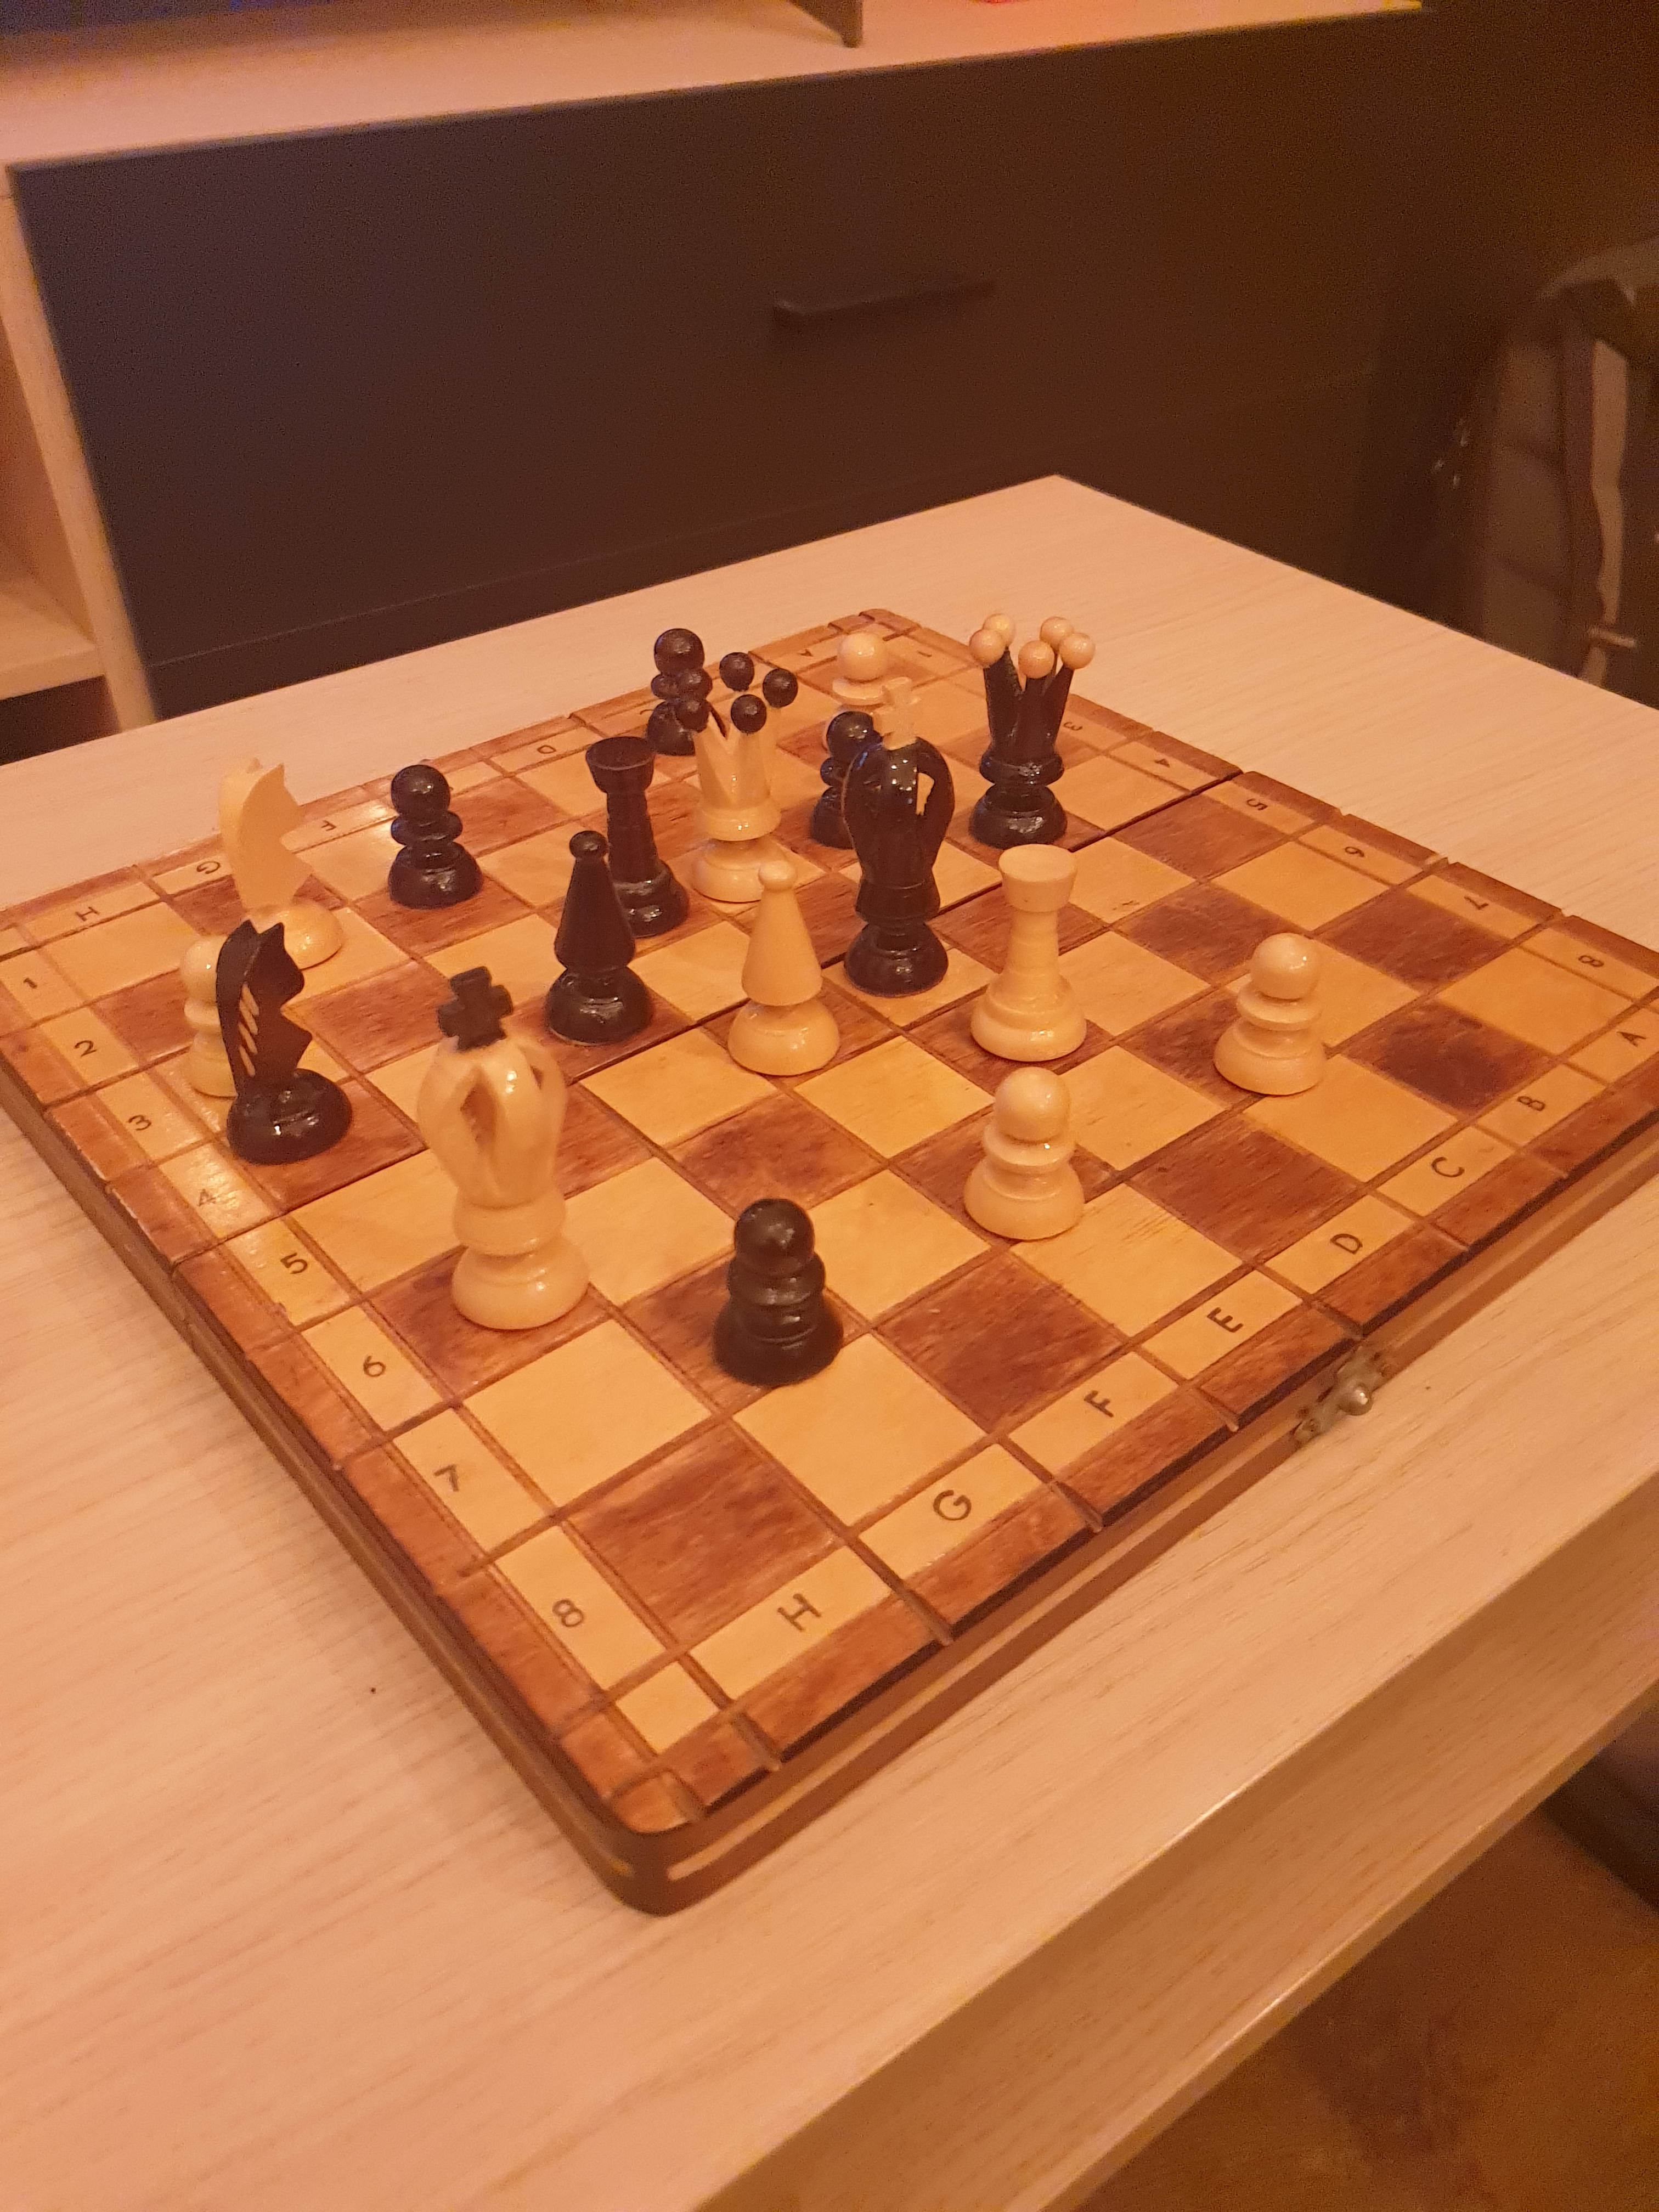bbishop: (525, 817, 667, 1054)
bking: (830, 664, 969, 1003)
bknight: (204, 904, 356, 1170)
bpawn: (695, 1190, 866, 1397), (366, 744, 497, 927), (793, 704, 901, 857), (634, 617, 735, 766)
bqueen: (943, 592, 1110, 874)
brook: (573, 726, 702, 951)
wbishop: (711, 850, 849, 1083)
wknight: (195, 733, 359, 982)
wpawn: (950, 1049, 1096, 1256), (1206, 920, 1344, 1115), (164, 925, 284, 1113), (816, 618, 903, 766)
wqueen: (404, 958, 608, 1345), (657, 641, 809, 909)
wrook: (951, 829, 1103, 1069)
